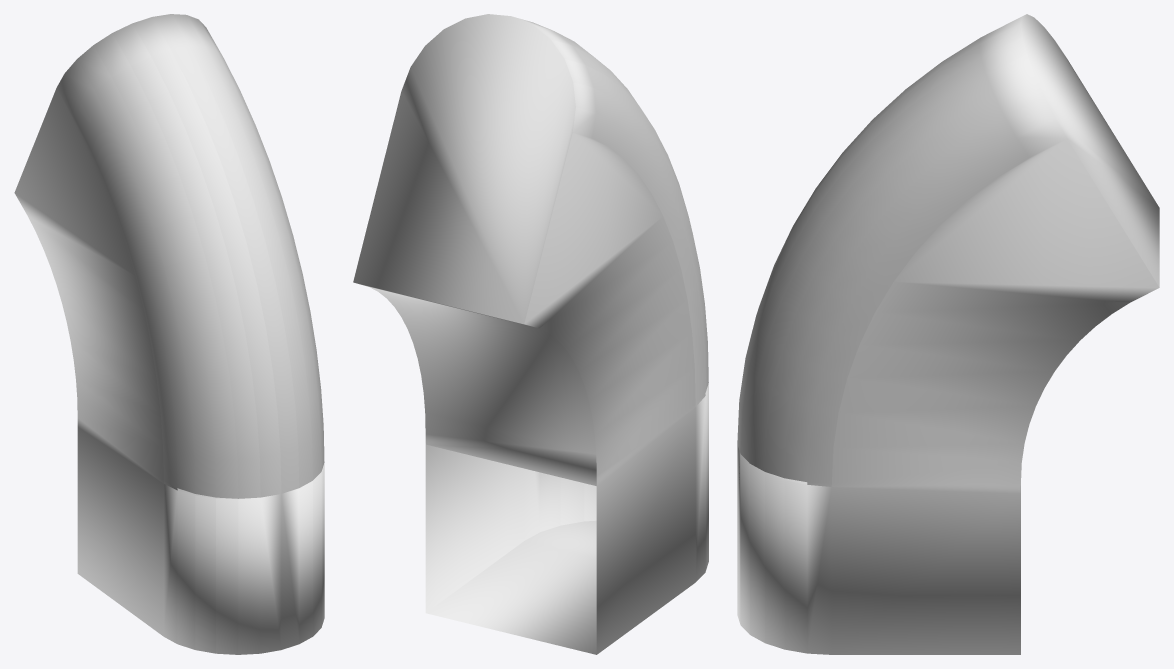
File: original-125.obj
3 renders of one model, left to right at view 1: azimuth 30°, elevation 25°; view 2: azimuth 150°, elevation 25°; view 3: azimuth 270°, elevation 25°, orthographic. The views are drawn at different scales.
Parts seen in each view (by area): view 1: group_14/ID747#ID747; view 2: group_14/ID747#ID747; view 3: group_14/ID747#ID747.
Boxes of the visible parts, <box> form: group_14/ID747#ID747: <box>14,14,324,654</box>; group_14/ID747#ID747: <box>353,14,708,654</box>; group_14/ID747#ID747: <box>737,14,1159,654</box>.
Size of the model in its own units: 0.0938 by 0.3237 by 0.2096.
1 material, 1 textured.
